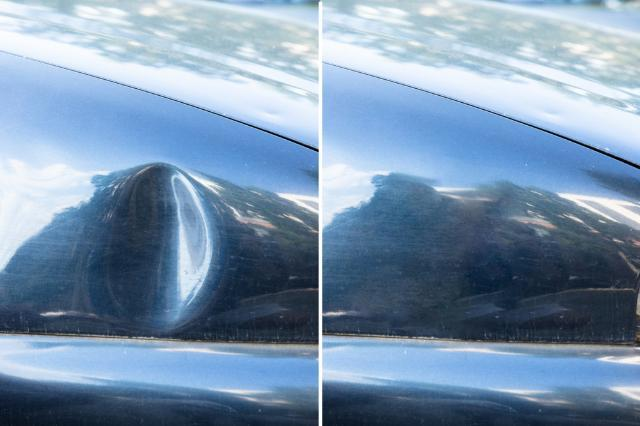dent: (90, 164, 222, 331)
